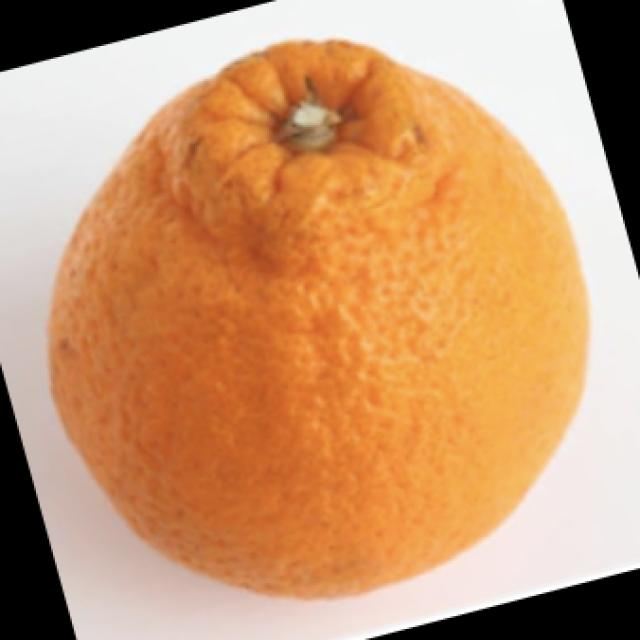matang: (50, 44, 584, 595)
